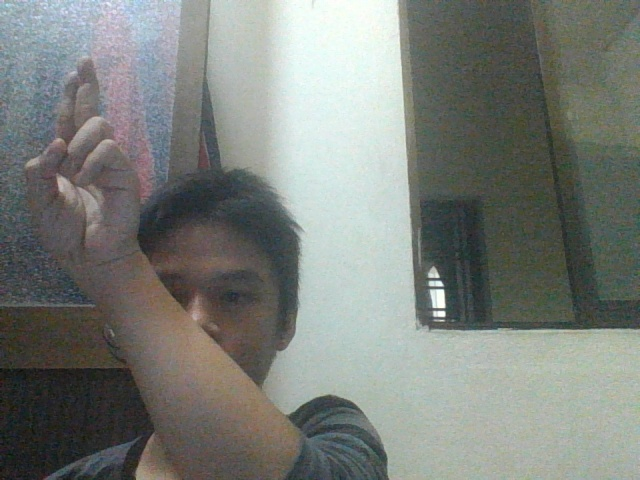write: (34, 62, 139, 272)
